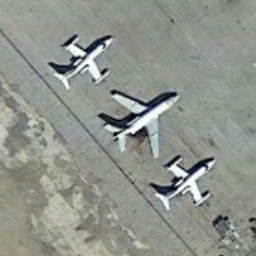Airplane: (90, 89, 186, 162), (43, 21, 118, 95), (142, 153, 220, 218)
